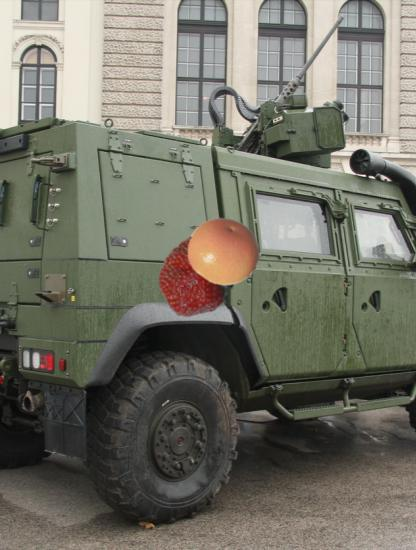Grapefruit: (188, 215, 260, 287)
Strawberry: (153, 230, 244, 321)
